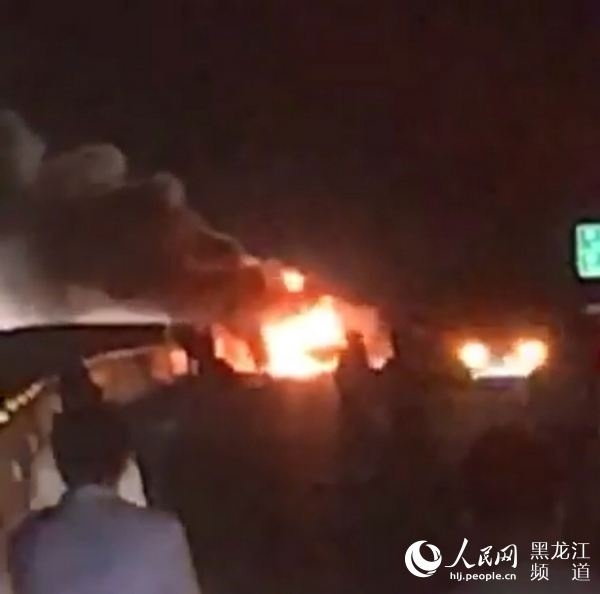fire: (230, 265, 351, 380), (455, 326, 549, 378)
